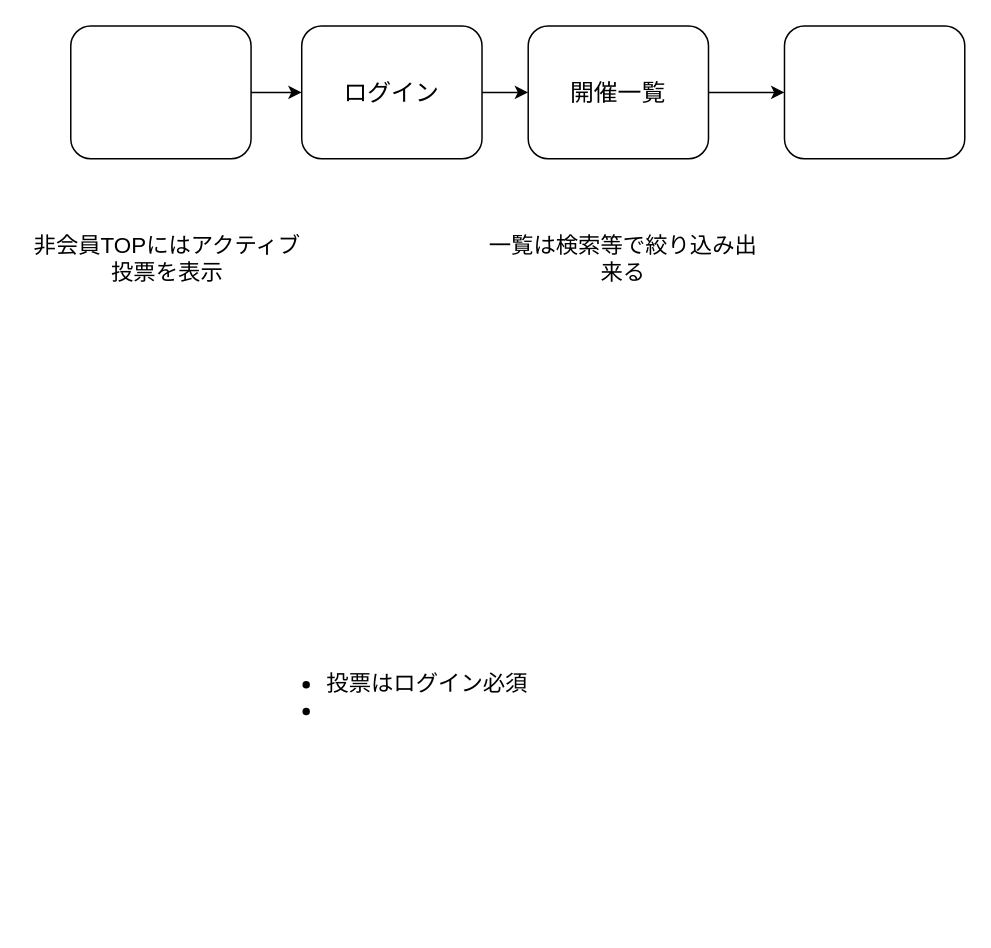
This 991x948 diagram has some shape labels left out. Each missing label, with the centre of its shape:
"投票画面" belongs at pixel 874 92.
"非会員TOP" belongs at pixel 160 92.
